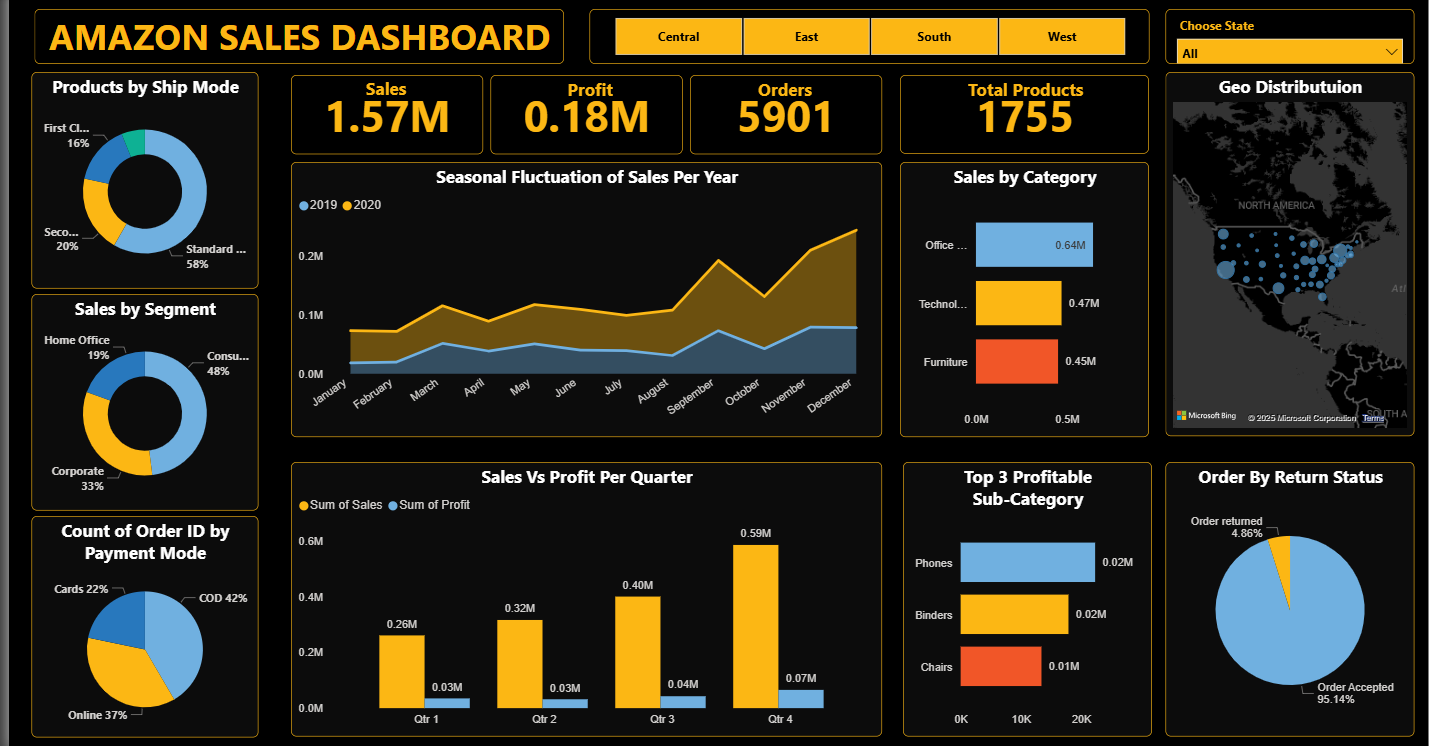

The dashboard page shown, as its layout file describes it:
{"tool":"powerbi","page":{"name":"Dashboard","canvas":[1550,850],"ordinal":0},"visuals":[{"type":"barChart","title":"Sales by Category","fields":{"Y":["Sum(Sheet1.Sales)"],"Category":["Sheet1.Category"]},"box":[974.6,206.6,272.3,300.4],"z":0},{"type":"barChart","title":"Top 3 Profitable Sub-Category","fields":{"Category":["Sheet1.Sub-Category"],"Y":["Sum(Sheet1.Profit)"]},"box":[976.5,535.2,272,300],"z":1000},{"type":"donutChart","fields":{"Y":["Sum(Sheet1.Sales)"],"Category":["Sheet1.Segment"]},"box":[24.4,351.1,247.9,236.6],"z":2000},{"type":"donutChart","fields":{"Category":["Sheet1.Ship Mode"],"Y":["Sum(Sheet1.Sales)"]},"box":[24.4,108.9,247.9,236.6],"z":3000},{"type":"pieChart","fields":{"Category":["Sheet1.Payment Mode"],"Y":["CountNonNull(Sheet1.Order ID)"]},"box":[24.4,593.4,247.9,242.2],"z":4000},{"type":"pieChart","title":"Order By Return Status","fields":{"Y":["CountNonNull(Sheet1.Order ID)"],"Category":["Sheet1.Return_Status"]},"box":[1263.8,535.2,272.3,300],"z":5000},{"type":"stackedAreaChart","title":"Seasonal Fluctuation of  Sales Per Year","fields":{"Category":["Sheet1.Order Date.Variation.Date Hierarchy.Month"],"Y":["Sum(Sheet1.Sales)"],"Series":["Sheet1.Order Date.Variation.Date Hierarchy.Year"]},"box":[308,206.6,646,300.4],"z":6000},{"type":"clusteredColumnChart","title":"Sales Vs  Profit Per Quarter","fields":{"Y":["Sum(Sheet1.Sales)","Sum(Sheet1.Profit)"],"Category":["Sheet1.Order Date.Variation.Date Hierarchy.Quarter"]},"box":[308,535.2,646,300],"z":7000},{"type":"map","title":"Geo Distributuion","fields":{"Category":["Sheet1.State"],"Size":["Sum(Sheet1.Sales)"]},"box":[1263.8,108.9,272.3,398.1],"z":8000},{"type":"slicer","fields":{"Values":["Sheet1.Region"]},"box":[634.7,39.4,612.2,60.1],"z":9000},{"type":"slicer","fields":{"Values":["Sheet1.State"]},"box":[1263.8,39.4,272.3,60.1],"z":10000},{"type":"textbox","title":"AMAZON SALES DASHBOARD","box":[28.2,39.4,578.4,60.1],"z":11000},{"type":"card","fields":{"Values":["Sum(Sheet1.Sales)"]},"box":[308,110.8,210,86.4],"z":12000},{"type":"card","fields":{"Values":["Count(Sheet1.Product ID)"]},"box":[974.6,110.8,272.3,86],"z":13000},{"type":"card","fields":{"Values":["CountNonNull(Sheet1.Order ID)"]},"box":[743.6,110.8,210.3,86.4],"z":14000},{"type":"card","fields":{"Values":["Sum(Sheet1.Profit)"]},"box":[525.8,110.8,210.3,86.4],"z":15000},{"type":"textbox","title":"Sales","box":[349.3,113.4,125.8,24.4],"z":16000},{"type":"textbox","title":"Orders","box":[784.9,114.3,125.8,22.5],"z":17000},{"type":"textbox","title":"Profit","box":[576.5,114.3,116.4,22.5],"z":18000},{"type":"textbox","title":"Total Products","box":[1036.5,114.3,150.2,22.5],"z":19000}]}

Visuals, with their boxes on the page's 1550x850 design canvas (x1, y1, x2, y2). These are canvas units, not pixel positions in the 1429x746 screenshot, which may show the page scaled, cropped or inside an application window:
"Sales by Category" barChart: (975,207,1247,507)
"Top 3 Profitable Sub-Category" barChart: (976,535,1248,835)
donutChart - Sum(Sheet1.Sales) x Sheet1.Segment: (24,351,272,588)
donutChart - Sheet1.Ship Mode x Sum(Sheet1.Sales): (24,109,272,346)
pieChart - Sheet1.Payment Mode x CountNonNull(Sheet1.Order ID): (24,593,272,836)
"Order By Return Status" pieChart: (1264,535,1536,835)
"Seasonal Fluctuation of  Sales Per Year" stackedAreaChart: (308,207,954,507)
"Sales Vs  Profit Per Quarter" clusteredColumnChart: (308,535,954,835)
"Geo Distributuion" map: (1264,109,1536,507)
slicer - Sheet1.Region: (635,39,1247,100)
slicer - Sheet1.State: (1264,39,1536,100)
"AMAZON SALES DASHBOARD" textbox: (28,39,607,100)
card - Sum(Sheet1.Sales): (308,111,518,197)
card - Count(Sheet1.Product ID): (975,111,1247,197)
card - CountNonNull(Sheet1.Order ID): (744,111,954,197)
card - Sum(Sheet1.Profit): (526,111,736,197)
"Sales" textbox: (349,113,475,138)
"Orders" textbox: (785,114,911,137)
"Profit" textbox: (576,114,693,137)
"Total Products" textbox: (1036,114,1187,137)
